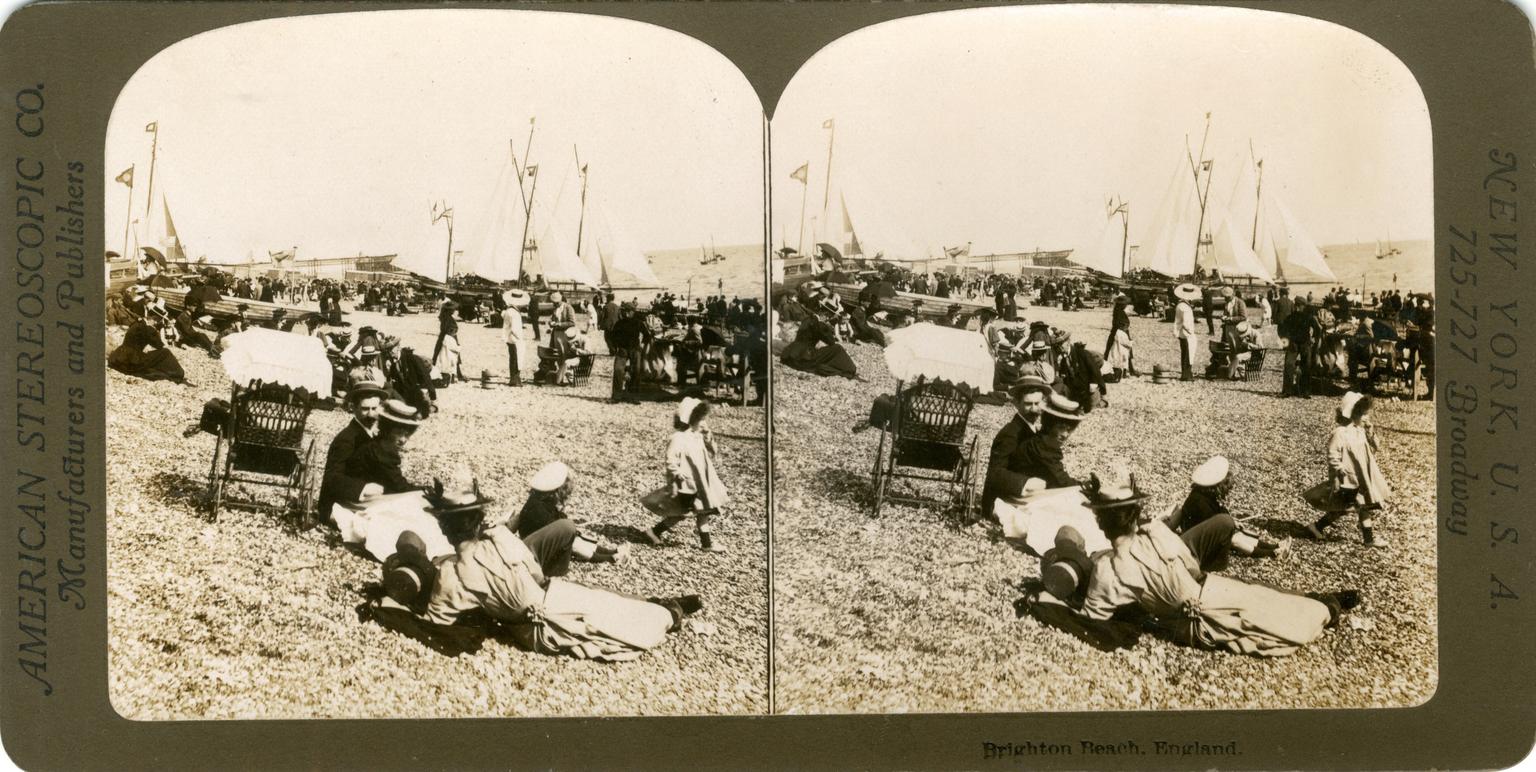half_image: (772, 5, 1439, 715), (104, 8, 768, 718)
